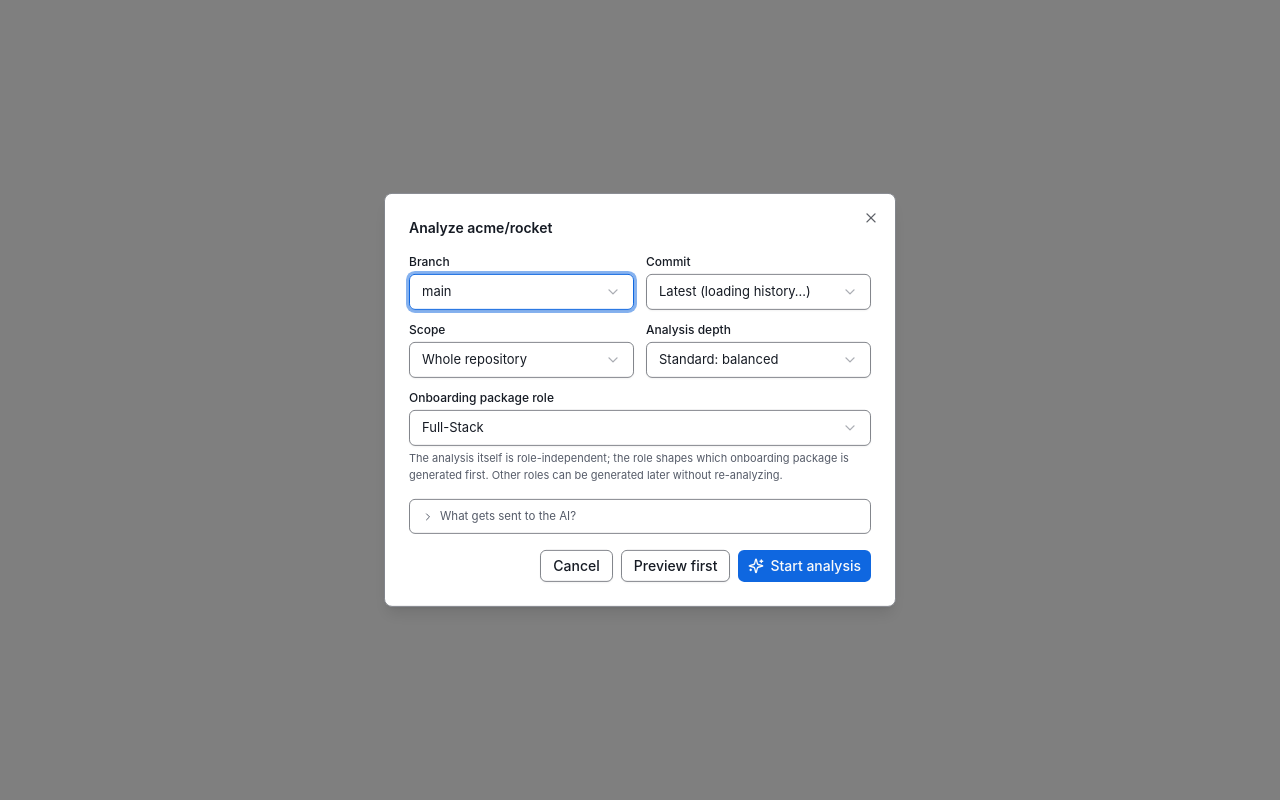
AnalyzeDialog — credit rejections › shows a friendly monthly-credit box, with a /pricing link, on monthly_exhausted
Click the button "Start analysis".
click(805, 566)  # box x1=738 y1=550 x2=871 y2=582
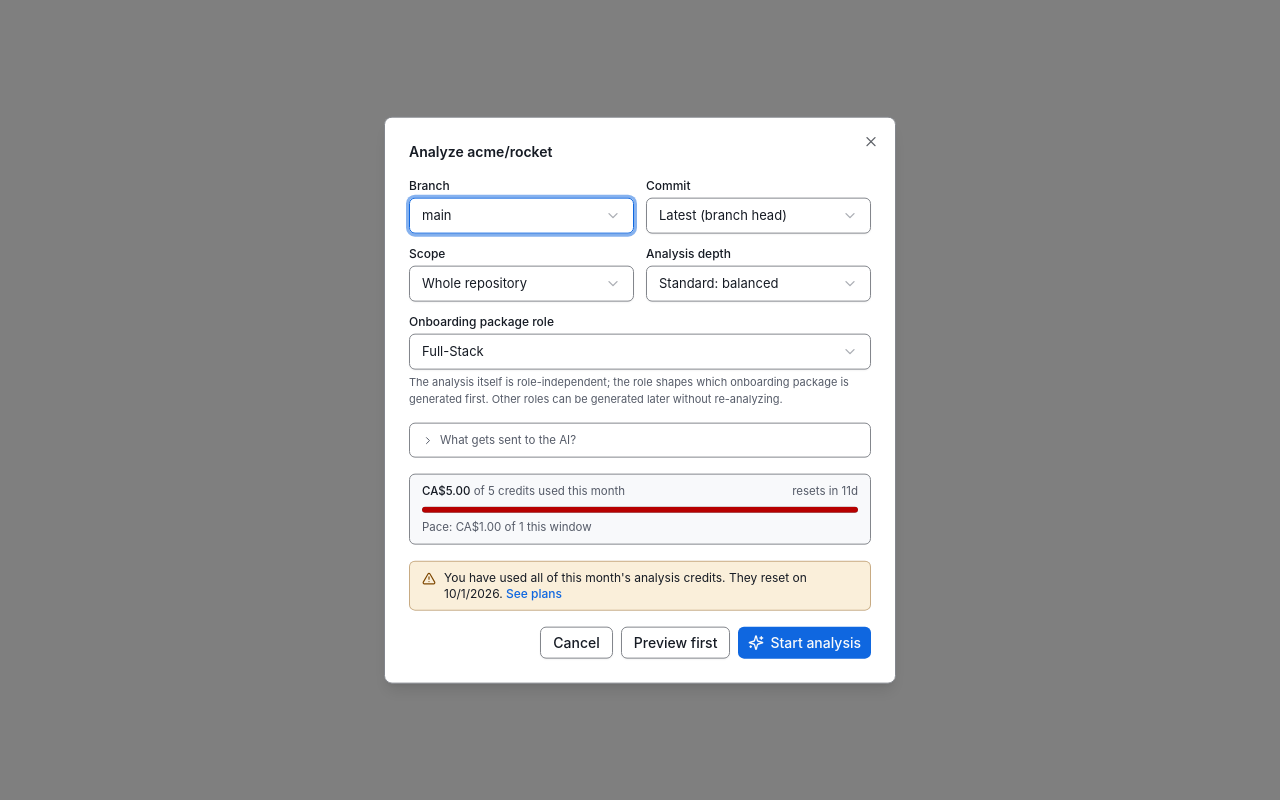
Expected: the text "used all of this month's analysis credits" is shown, x1=444 y1=569 x2=726 y2=584
